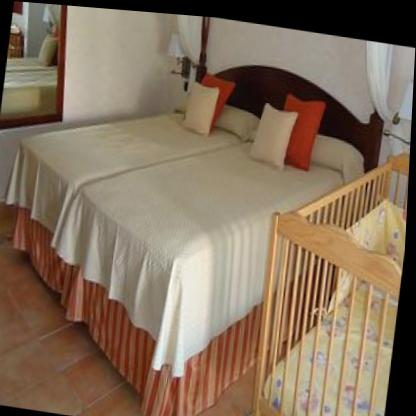Bed: (0, 26, 389, 403)
